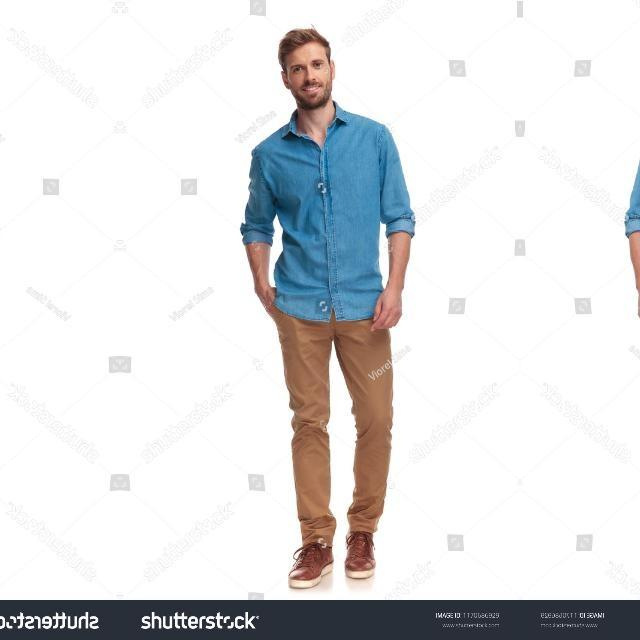person: (225, 17, 430, 586), (607, 16, 640, 585), (0, 16, 12, 585)
